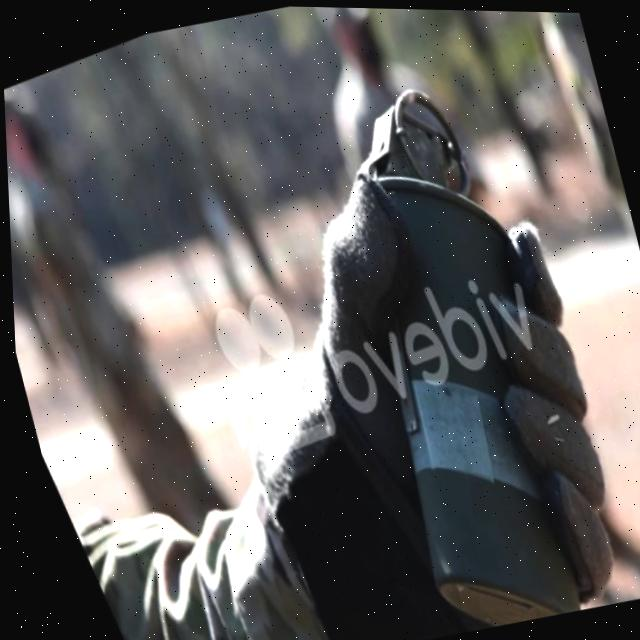grenade: (230, 43, 640, 640)
